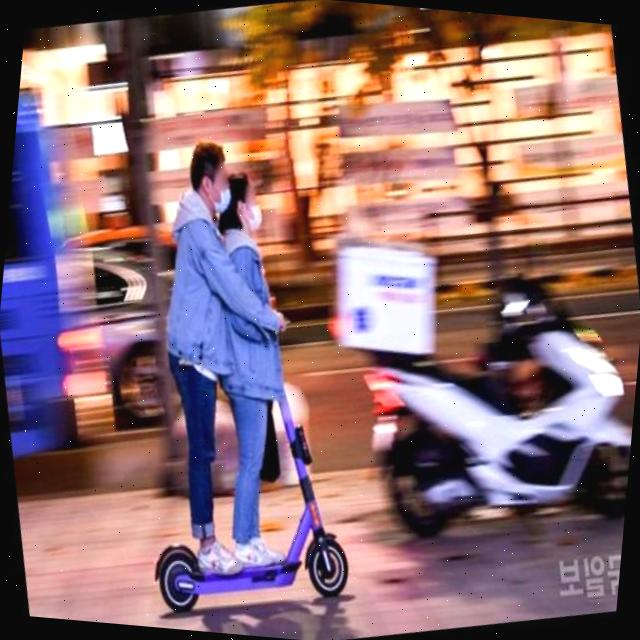bare_head: (181, 135, 233, 221), (218, 161, 267, 235)
human: (165, 139, 238, 572), (223, 161, 296, 577)
kickboard: (143, 529, 376, 616)
